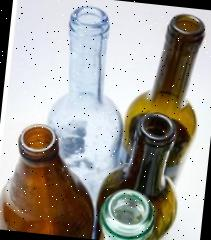glass: (0, 0, 208, 240)
